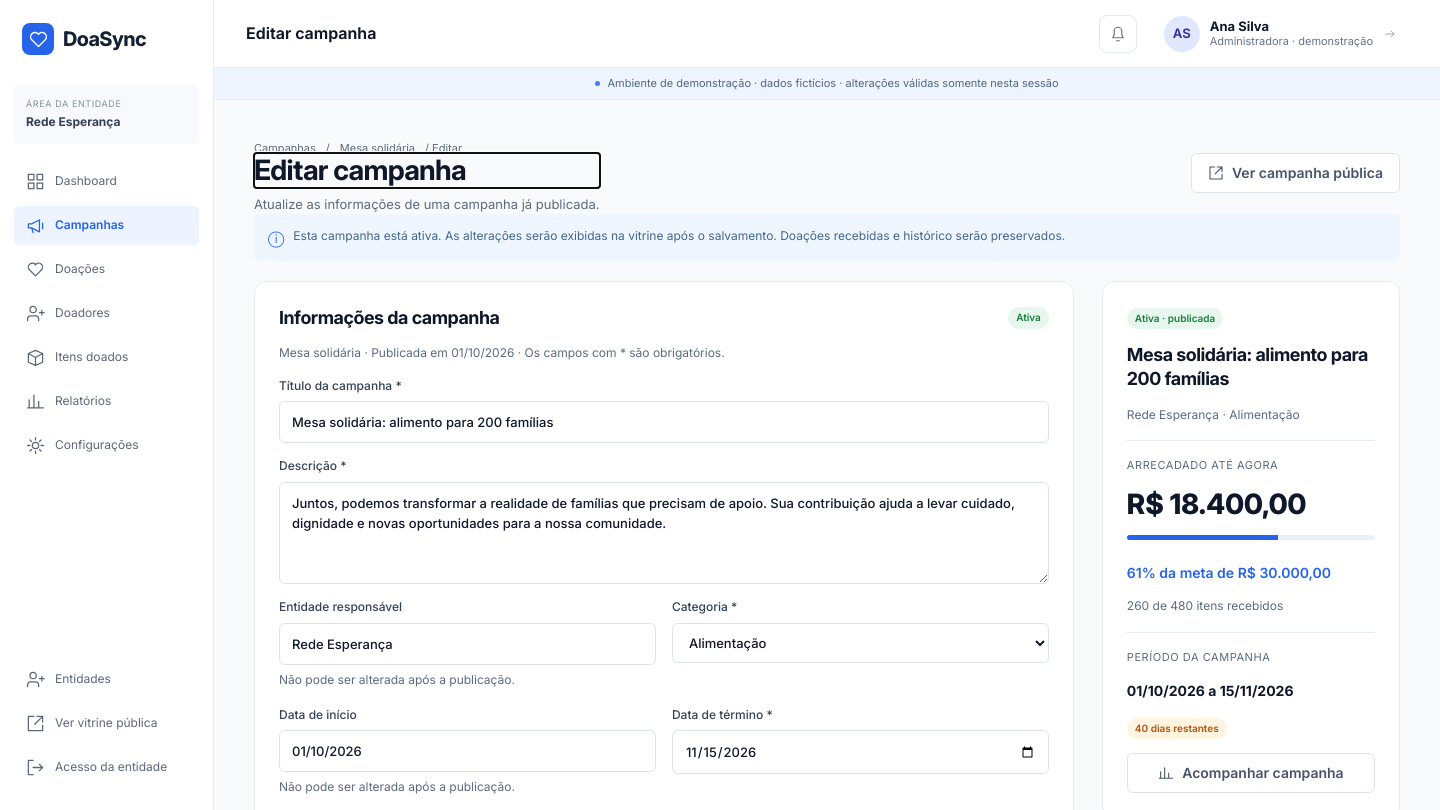
Test case: Editar campanha (DEV-CAM-08) › aponta os campos obrigatórios vazios e os marca como inválidos
Check: the heading "Editar campanha" is shown, box [254,153,466,187]
Step 1. Clear the field labelled "Título da campanha *" → (664, 422), box [279,401,1049,443]
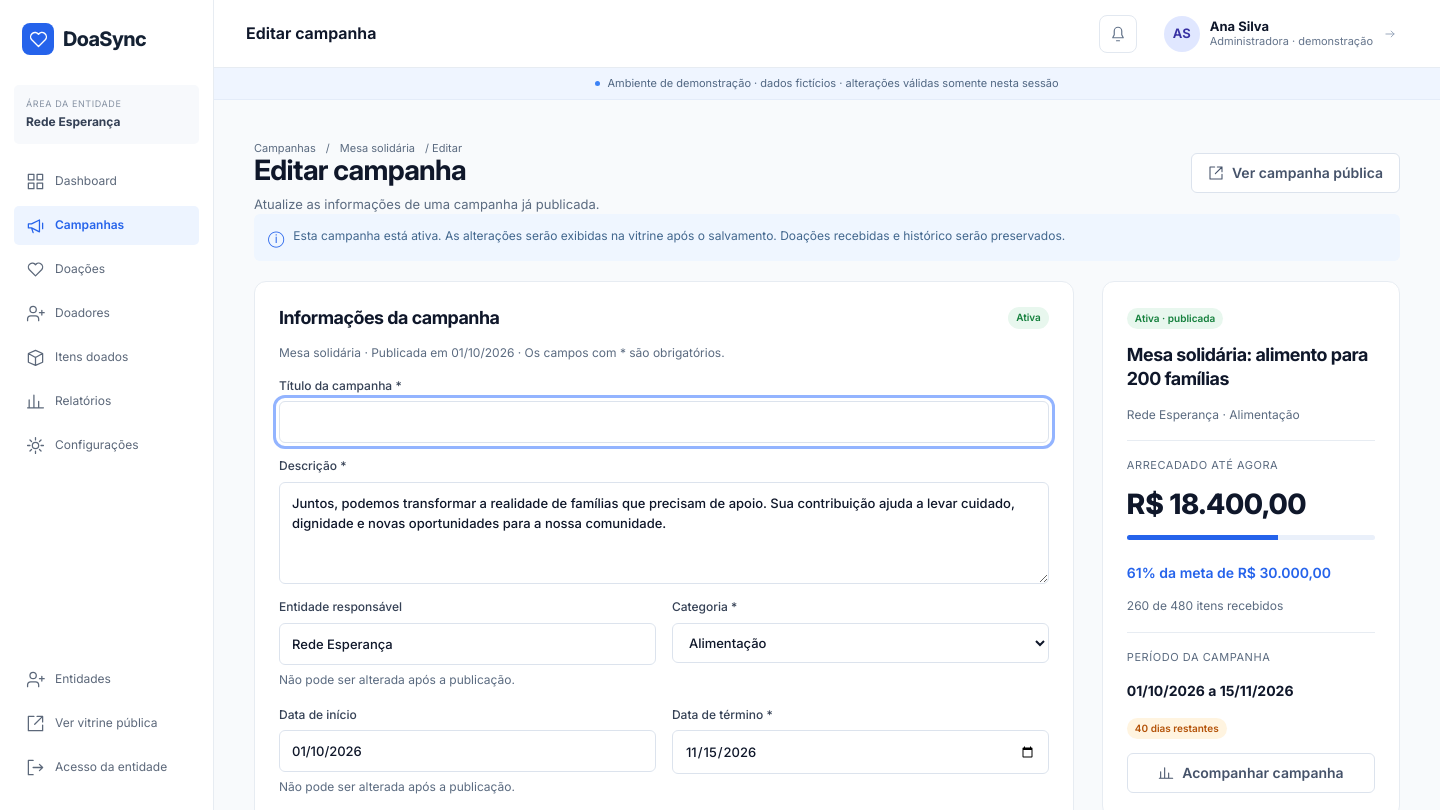
Step 2. Clear the text box labelled "Descrição *" → (664, 533), box [279,482,1049,584]
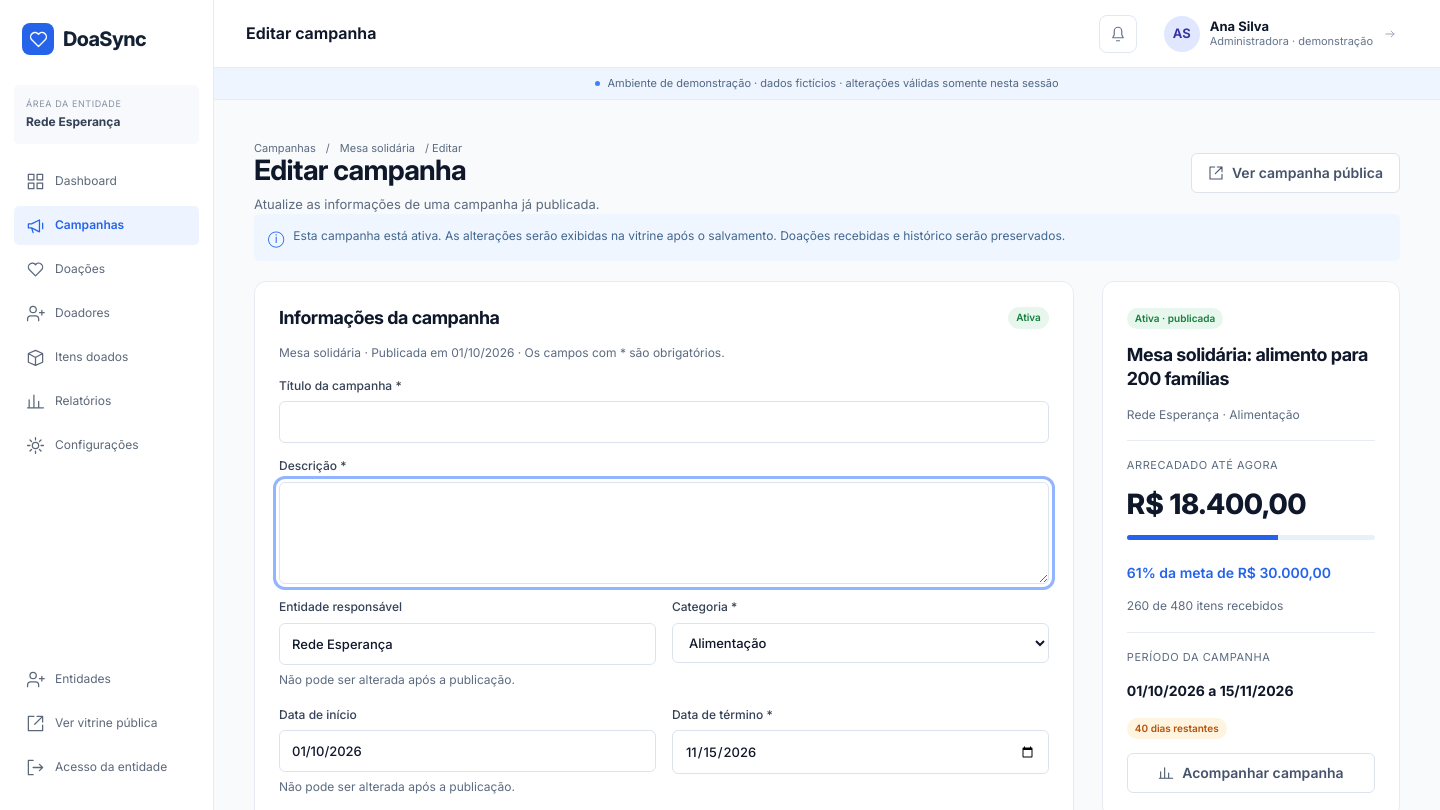
Step 3. Clear the date field labelled "Data de término *" → (860, 752), box [672,730,1049,774]
(page scrolled)
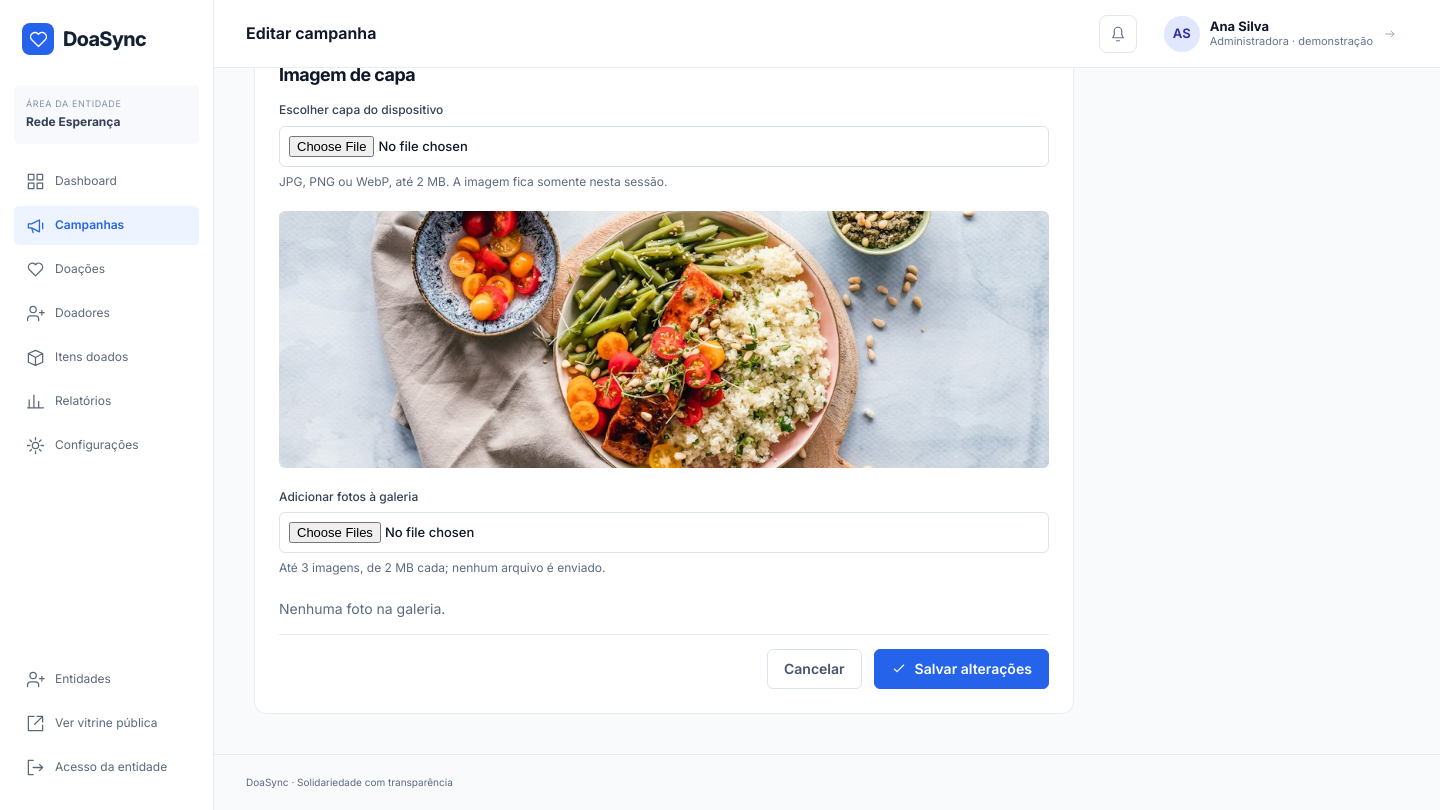
Step 4. Click the button "Salvar alterações" → (961, 669), box [874,649,1049,689]
(page scrolled)
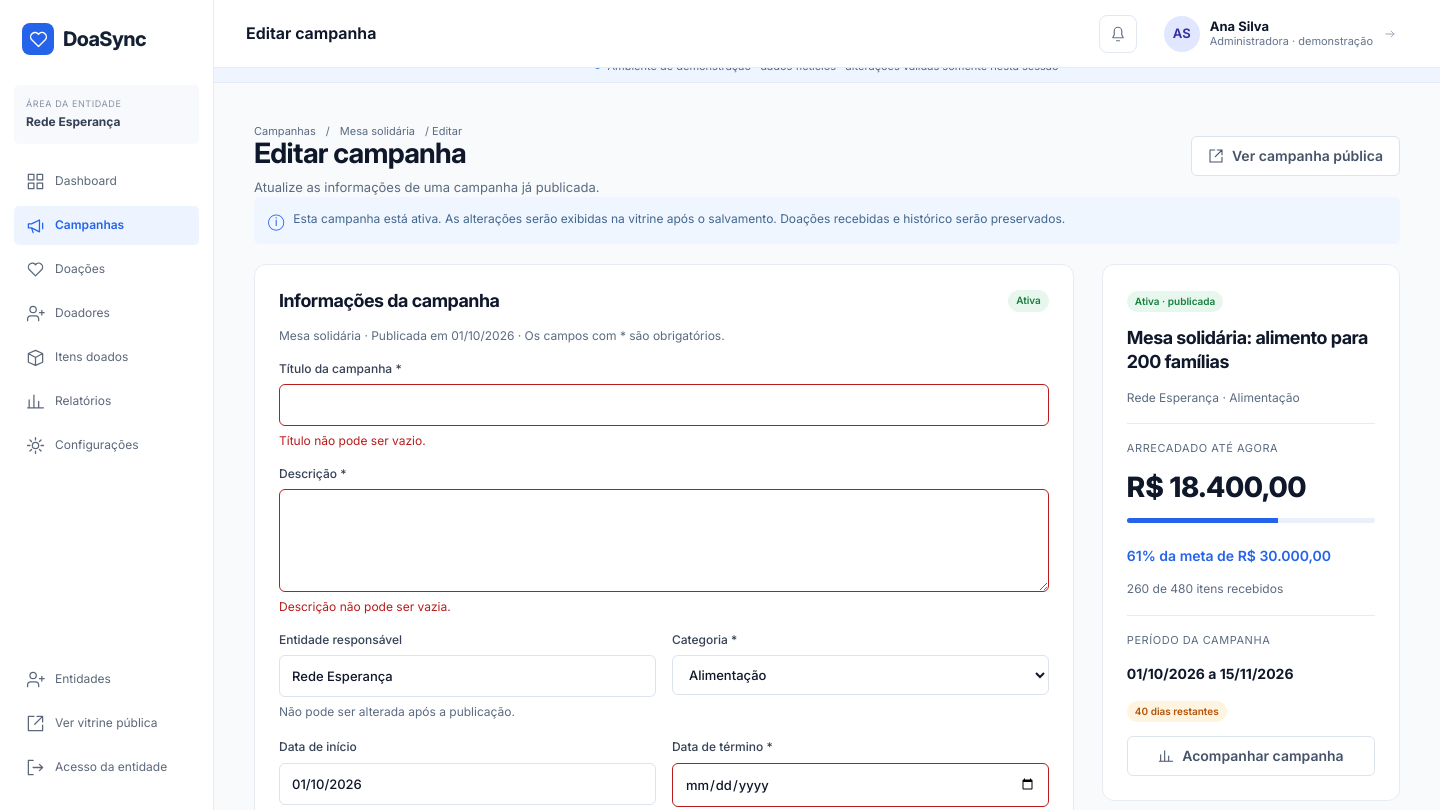
Check: the text "Título não pode ser vazio." is shown, box [279,433,426,448]
Check: the text "Descrição não pode ser vazia." is shown, box [279,599,451,614]
